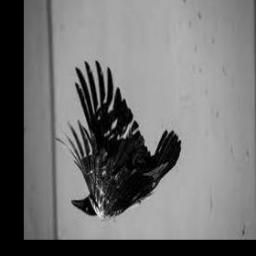Crow: (55, 61, 182, 219)
